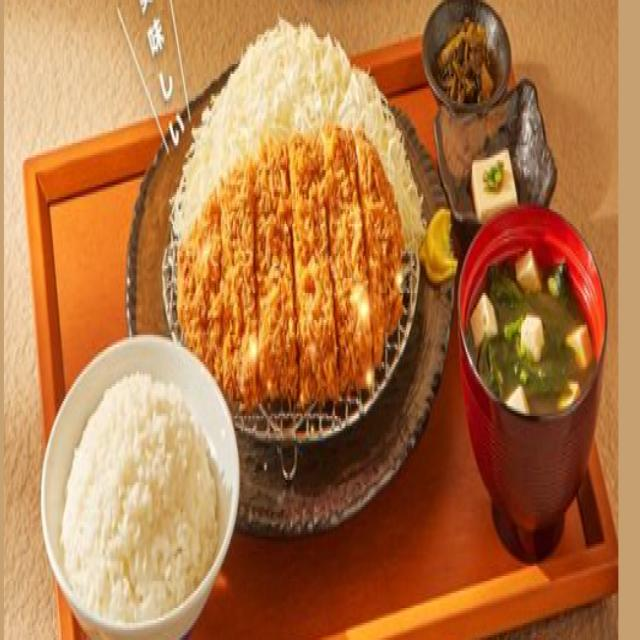carb: (62, 373, 219, 622)
meat: (179, 126, 405, 409), (472, 151, 519, 223), (505, 314, 546, 362), (471, 292, 500, 350), (566, 323, 594, 369), (516, 251, 542, 295), (507, 389, 529, 413)
vegetable: (172, 20, 425, 253), (479, 264, 596, 414), (436, 20, 495, 103), (484, 161, 505, 193)
